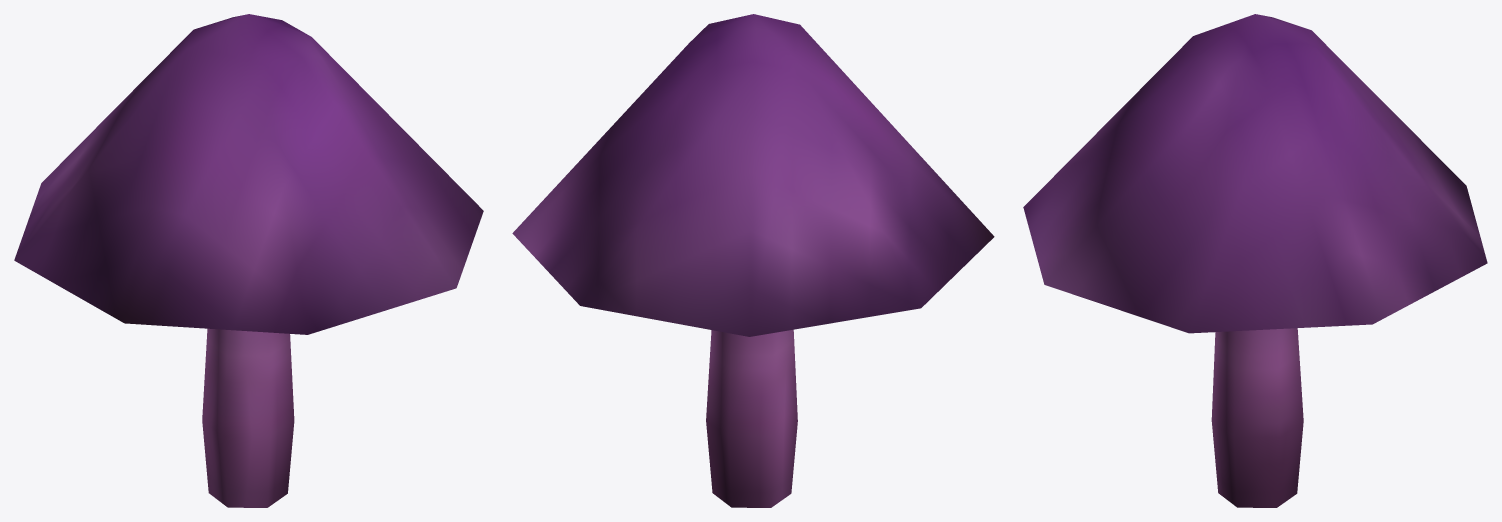
The model's file is mesh_quingming_mushroom.FBX.
3 views of the same model, side by side, from view 1: azimuth 30°, elevation 25°; view 2: azimuth 150°, elevation 25°; view 3: azimuth 270°, elevation 25° (orthographic).
Visible parts, largest first — view 1: mesh_quingming_mushroom; view 2: mesh_quingming_mushroom; view 3: mesh_quingming_mushroom.
Part boxes in pixels (x1,y1,x2,y2): mesh_quingming_mushroom: (14,14,483,507); mesh_quingming_mushroom: (512,14,994,507); mesh_quingming_mushroom: (1023,14,1487,507).
Size of the model in its own units: 0.5143 by 0.5856 by 0.5144.
